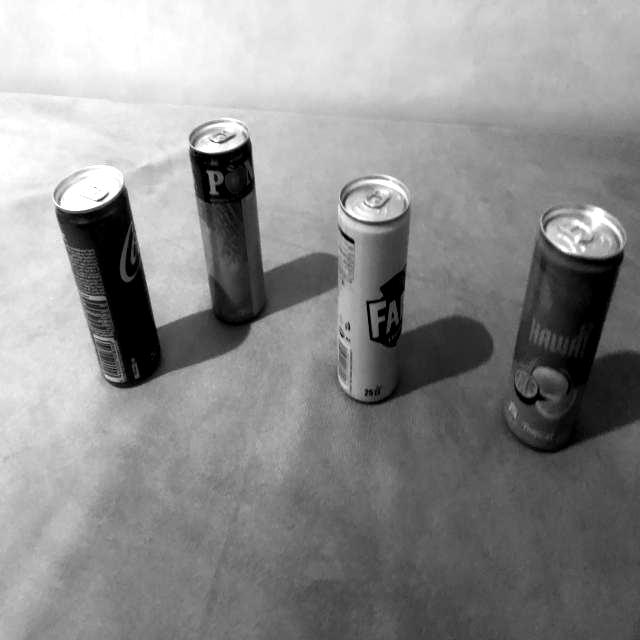metal: (500, 184, 630, 472), (54, 164, 159, 398), (329, 173, 413, 407), (182, 115, 274, 326)
